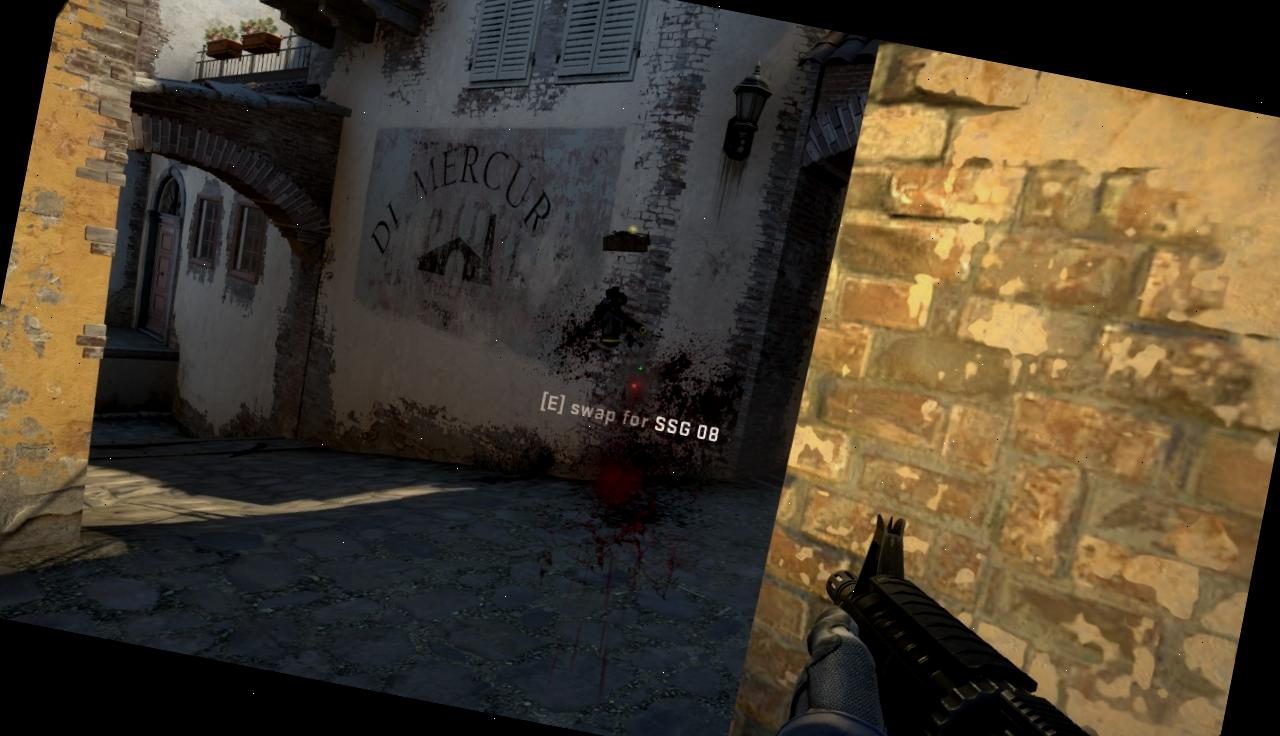rifle: (773, 502, 1248, 736)
